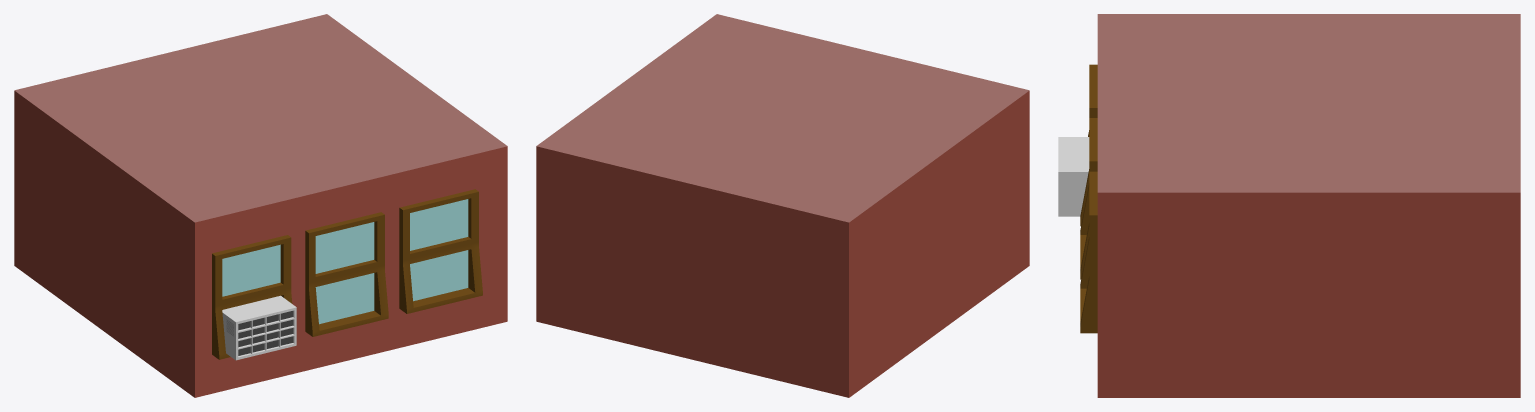
File: LevelV3.fbx
The picture shows the model from 3 angles, left to right: view 1: azimuth 30°, elevation 25°; view 2: azimuth 150°, elevation 25°; view 3: azimuth 270°, elevation 25°; orthographic projection. The views are drawn at different scales.
Visible parts, largest first — view 1: pCube6, pCube9, pCube7, pCube8, pCube22; view 2: pCube6; view 3: pCube6, pCube22, pCube9, pCube7, pCube8.
Part boxes in pixels (x1,y1,x2,y2): pCube6: [14, 14, 507, 397]; pCube9: [399, 189, 482, 313]; pCube7: [305, 212, 388, 336]; pCube8: [212, 235, 292, 359]; pCube22: [222, 295, 296, 360]; pCube6: [536, 14, 1029, 397]; pCube6: [1097, 14, 1520, 397]; pCube22: [1058, 137, 1089, 216]; pCube9: [1080, 171, 1097, 333]; pCube7: [1080, 118, 1097, 279]; pCube8: [1080, 64, 1097, 226].
Size of the model in its own units: 25 by 13.39 by 27.31.
